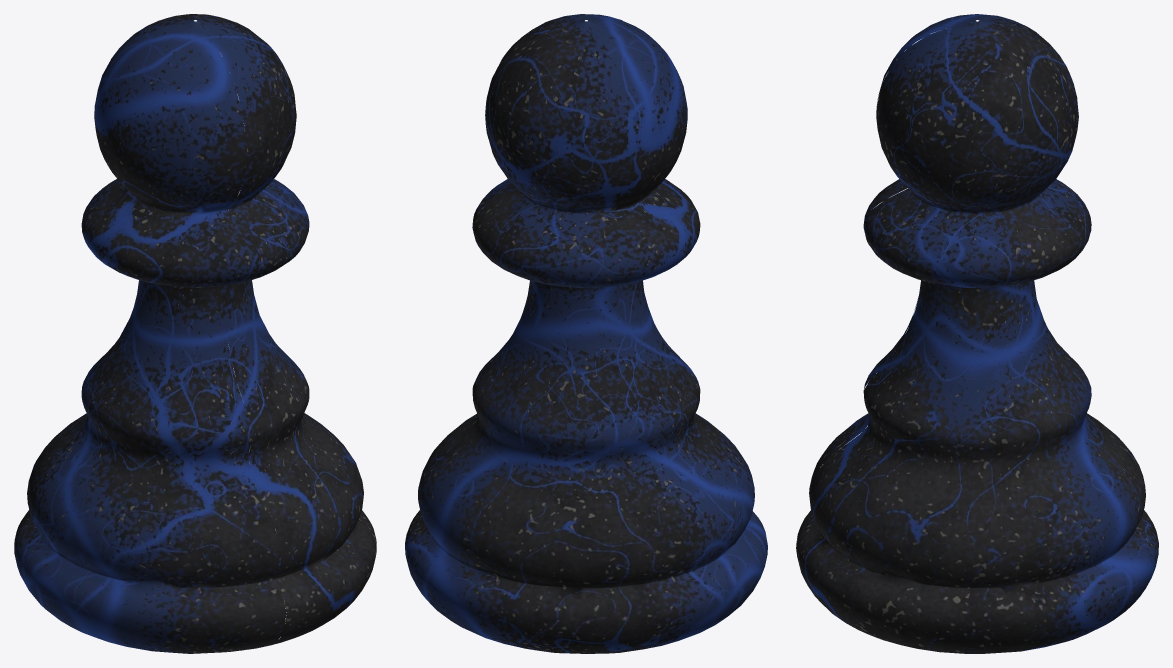
The model's file is pawn-black.glb.
3 views of the same model, side by side, from view 1: azimuth 30°, elevation 25°; view 2: azimuth 150°, elevation 25°; view 3: azimuth 270°, elevation 25° (orthographic).
Visible parts, largest first — view 1: Cobalt Vein black pawn; view 2: Cobalt Vein black pawn; view 3: Cobalt Vein black pawn.
Part boxes in pixels (x1,y1,x2,y2): Cobalt Vein black pawn: (14, 14, 376, 653); Cobalt Vein black pawn: (405, 14, 767, 653); Cobalt Vein black pawn: (796, 14, 1158, 653).
Bounding box in the file's own units: 0.4911 × 0.8592 × 0.4918.
Materials: 1 (1 with a texture image).
